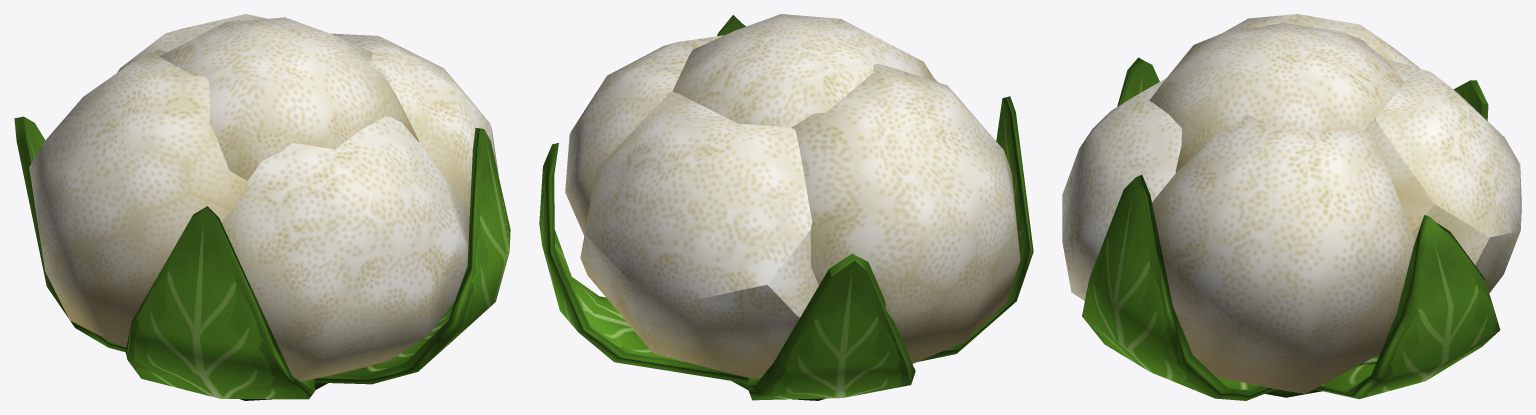
The model's file is Cauliflower.fbx.
The picture shows the model from 3 angles, left to right: view 1: azimuth 30°, elevation 25°; view 2: azimuth 150°, elevation 25°; view 3: azimuth 270°, elevation 25°; orthographic projection. The views are drawn at different scales.
Visible parts, largest first — view 1: Cauliflower; view 2: Cauliflower; view 3: Cauliflower.
Part boxes in pixels (x1=…): Cauliflower: x1=14, y1=14, x2=510, y2=400; Cauliflower: x1=539, y1=14, x2=1033, y2=400; Cauliflower: x1=1062, y1=14, x2=1521, y2=400.
Size of the model in its own units: 69.68 by 53.73 by 67.39.
